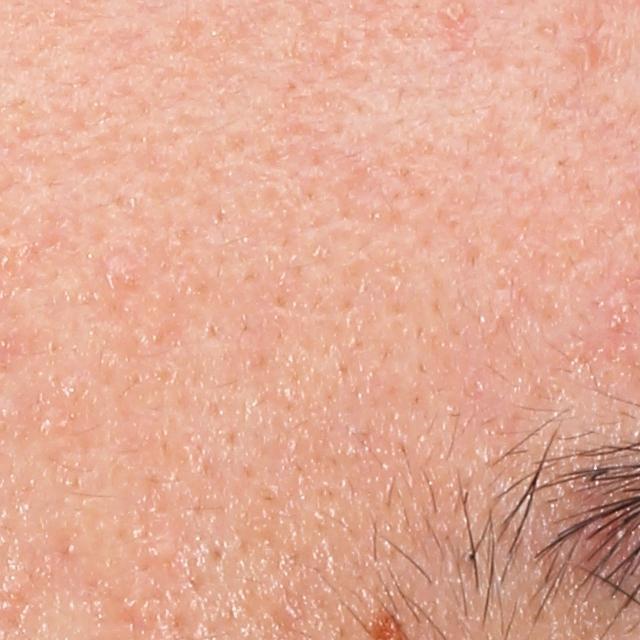comedo: (574, 35, 602, 74)
